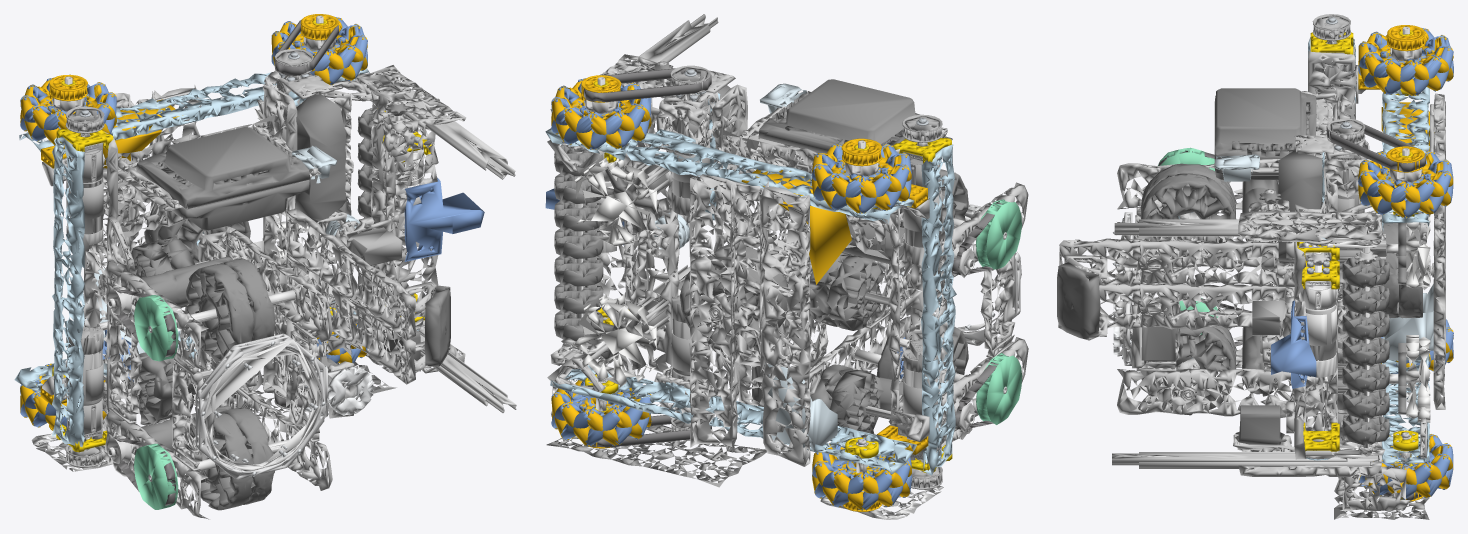
The picture shows the model from 3 angles, left to right: view 1: azimuth 30°, elevation 25°; view 2: azimuth 150°, elevation 25°; view 3: azimuth 270°, elevation 25°; orthographic projection. The views are drawn at different scales.
Visible parts, largest first — view 1: Hubs <1> / Control Hub <1>, Chassis <1> / 55 tooth belt motor asm <1> / 1107-0013-0336 r, fixed wheel launcher <1> / 2026-09-17-10-27-35-299 <1> / 162 (×3), fixed wheel launcher <1> / Assembly 3 <2> / 96mm Gecko Wheel (×2), Chassis <1> / 9 Hole Lowside U-Channel (GB) <2>, fixed wheel launcher <1> / Assembly 3 <2> / 7 Hole Lowside U (×2), fixed wheel launcher <1> / Assembly 3 <1> / 96mm Gecko Wheel (×2), Chassis <1> / 55 tooth belt motor asm <1> / 5203-2402-0014/0 (×2), fixed wheel launcher <1> / Assembly 3 <1> / 7 Hole Lowside U (×2), Chassis <1> / 1107-0015-0384 rev1 <1>, 12V Battery (GB) <1>, Flower Poker Mid <1> (+51 smaller); view 2: 11 Hole Lowside U-Channel (GB) <2>, 11 Hole Lowside U-Channel (GB) <1>, Chassis <1> / 55 tooth belt motor asm <1> / 1107-0013-0336 r, fixed wheel launcher <1> / Assembly 5 <1> / 72mm Gecko Wheel (×4), Hubs <1> / Control Hub <1>, Chassis <1> / Intake <1> / 48mm Gecko Wheel - 15A Gripforce( (×7), Chassis <1> / 1107-0015-0384 rev1 <2>, Chassis <1> / 1107-0015-0384 rev1 <1>, 7 Hole Mini U-Channel (GB) <1>, Chassis <1> / 1123-0096-0192 <1>, fixed wheel launcher <1> / Assembly 5 <1> / 13 Hole Lowside , Chassis <1> / 11 Hole Mini U-Channel (GB) <1> (+54 smaller); view 3: Chassis <1> / Intake <1> / 48mm Gecko Wheel - 15A Gripforce( (×7), Chassis <1> / 9 Hole Lowside U-Channel (GB) <2>, Hubs <1> / Control Hub <1>, fixed wheel launcher <1> / Assembly 3 <1> / 7 Hole Lowside U, Chassis <1> / 9 Hole Lowside U-Channel (GB) <1>, fixed wheel launcher <1> / Assembly 3 <2> / 96mm Gecko Wheel (×2), Chassis <1> / Intake <1> / Viper Linear Slide (GB) <1> / Bel (×2), Chassis <1> / Intake <1> / 5 Hole Lowside U-Channel (GB) <2>, fixed wheel launcher <1> / Assembly 3 <2> / 7 Hole Lowside U (×2), fixed wheel launcher <1> / Assembly 3 <1> / 96mm Gecko Wheel (×2), Chassis <1> / Limelight 3A Camera <1>, 11 Hole Lowside U-Channel (GB) <1> (+55 smaller).
Part boxes in pixels (x1=…): Hubs <1> / Control Hub <1>: x1=136, y1=127, x2=309, y2=208; Chassis <1> / 55 tooth belt motor asm <1> / 1107-0013-0336 r: x1=52, y1=136, x2=84, y2=447; fixed wheel launcher <1> / 2026-09-17-10-27-35-299 <1> / 162 (×3): x1=195, y1=333, x2=326, y2=479; fixed wheel launcher <1> / Assembly 3 <2> / 96mm Gecko Wheel (×2): x1=186, y1=258, x2=275, y2=361; Chassis <1> / 9 Hole Lowside U-Channel (GB) <2>: x1=286, y1=208, x2=415, y2=340; fixed wheel launcher <1> / Assembly 3 <2> / 7 Hole Lowside U (×2): x1=104, y1=230, x2=332, y2=370; fixed wheel launcher <1> / Assembly 3 <1> / 96mm Gecko Wheel (×2): x1=186, y1=407, x2=274, y2=510; Chassis <1> / 55 tooth belt motor asm <1> / 5203-2402-0014/0 (×2): x1=66, y1=117, x2=103, y2=441; fixed wheel launcher <1> / Assembly 3 <1> / 7 Hole Lowside U (×2): x1=104, y1=389, x2=332, y2=519; Chassis <1> / 1107-0015-0384 rev1 <1>: x1=19, y1=68, x2=369, y2=151; 12V Battery (GB) <1>: x1=294, y1=94, x2=346, y2=223; Flower Poker Mid <1>: x1=404, y1=177, x2=484, y2=261; 11 Hole Lowside U-Channel (GB) <2>: x1=761, y1=181, x2=810, y2=466; 11 Hole Lowside U-Channel (GB) <1>: x1=689, y1=175, x2=738, y2=452; Chassis <1> / 55 tooth belt motor asm <1> / 1107-0013-0336 r: x1=921, y1=144, x2=956, y2=475; fixed wheel launcher <1> / Assembly 5 <1> / 72mm Gecko Wheel (×4): x1=806, y1=252, x2=883, y2=437; Hubs <1> / Control Hub <1>: x1=758, y1=79, x2=919, y2=153; Chassis <1> / Intake <1> / 48mm Gecko Wheel - 15A Gripforce( (×7): x1=554, y1=144, x2=603, y2=341; Chassis <1> / 1107-0015-0384 rev1 <2>: x1=550, y1=365, x2=916, y2=473; Chassis <1> / 1107-0015-0384 rev1 <1>: x1=545, y1=128, x2=914, y2=223; 7 Hole Mini U-Channel (GB) <1>: x1=733, y1=185, x2=765, y2=373; Chassis <1> / 1123-0096-0192 <1>: x1=546, y1=425, x2=766, y2=487; fixed wheel launcher <1> / Assembly 5 <1> / 13 Hole Lowside : x1=888, y1=138, x2=923, y2=434; Chassis <1> / 11 Hole Mini U-Channel (GB) <1>: x1=645, y1=97, x2=679, y2=373; Chassis <1> / Intake <1> / 48mm Gecko Wheel - 15A Gripforce( (×7): x1=1342, y1=256, x2=1389, y2=445; Chassis <1> / 9 Hole Lowside U-Channel (GB) <2>: x1=1059, y1=238, x2=1294, y2=286; Hubs <1> / Control Hub <1>: x1=1214, y1=88, x2=1316, y2=162; fixed wheel launcher <1> / Assembly 3 <1> / 7 Hole Lowside U: x1=1117, y1=368, x2=1294, y2=416; Chassis <1> / 9 Hole Lowside U-Channel (GB) <1>: x1=1099, y1=283, x2=1294, y2=330; fixed wheel launcher <1> / Assembly 3 <2> / 96mm Gecko Wheel (×2): x1=1140, y1=164, x2=1235, y2=267; Chassis <1> / Intake <1> / Viper Linear Slide (GB) <1> / Bel (×2): x1=1112, y1=452, x2=1377, y2=468; Chassis <1> / Intake <1> / 5 Hole Lowside U-Channel (GB) <2>: x1=1238, y1=211, x2=1381, y2=241; fixed wheel launcher <1> / Assembly 3 <2> / 7 Hole Lowside U (×2): x1=1117, y1=163, x2=1292, y2=269; fixed wheel launcher <1> / Assembly 3 <1> / 96mm Gecko Wheel (×2): x1=1141, y1=310, x2=1236, y2=415; Chassis <1> / Limelight 3A Camera <1>: x1=1057, y1=262, x2=1100, y2=340; 11 Hole Lowside U-Channel (GB) <1>: x1=1433, y1=131, x2=1445, y2=409.
Size of the model in its own units: 0.4539 by 0.3913 by 0.3985.
